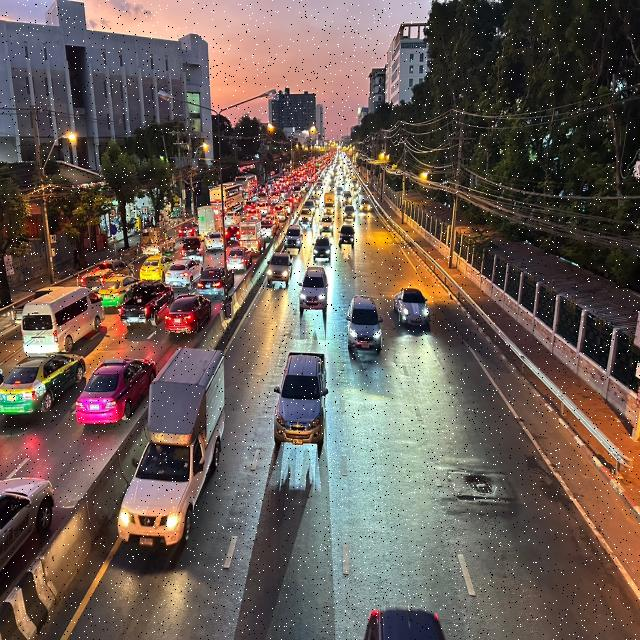truck: (111, 340, 232, 552)
